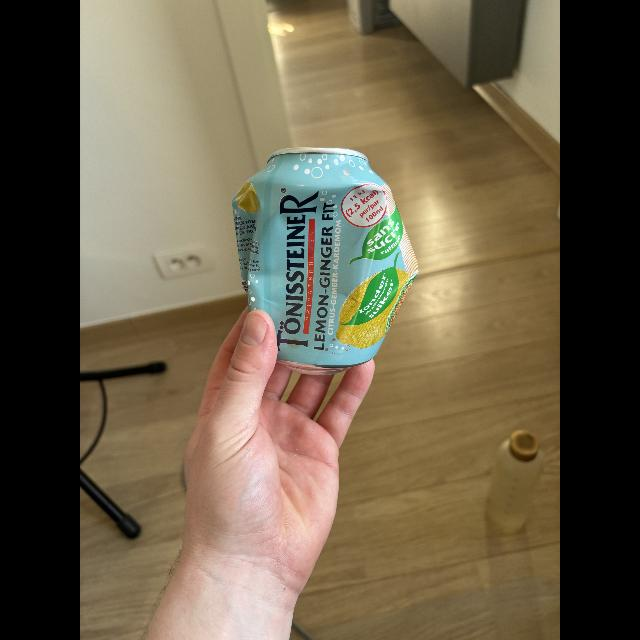Metal: (226, 147, 424, 370)
Plastic: (484, 429, 544, 535)
